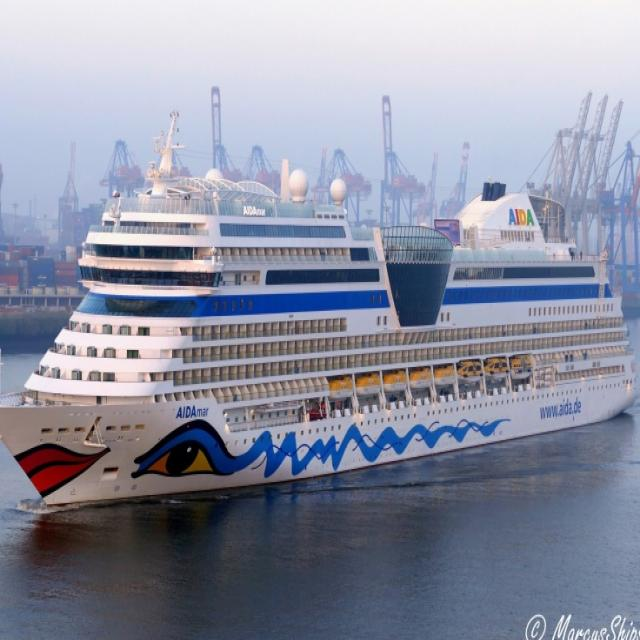cruises: (1, 112, 640, 518)
